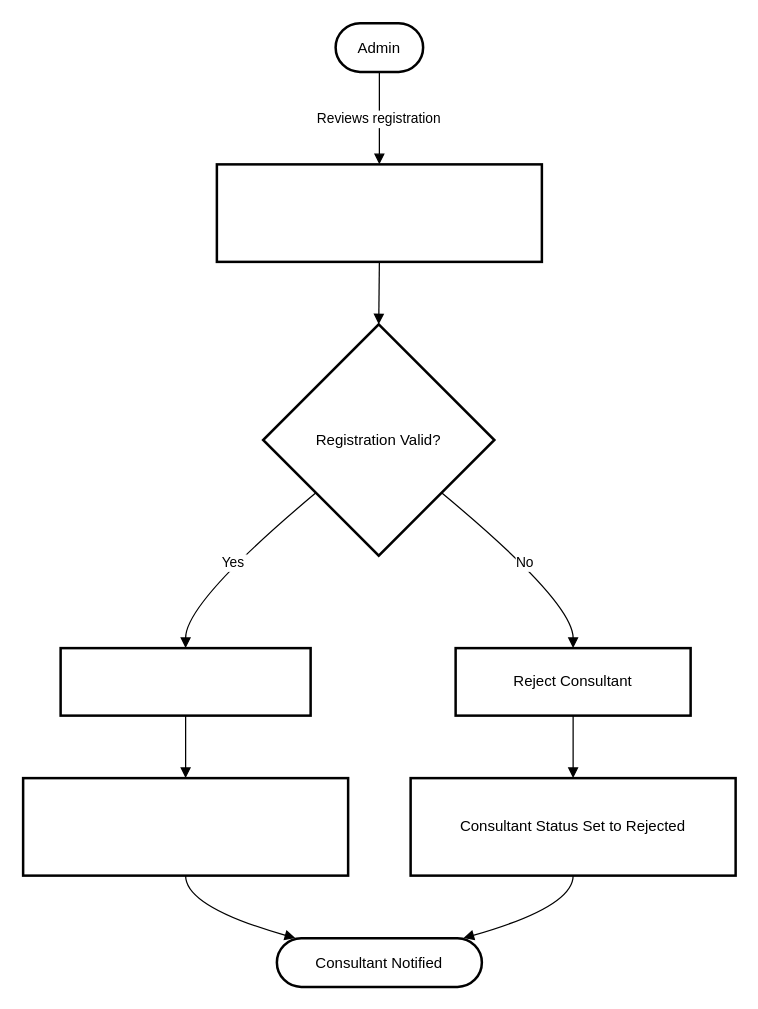
This 758x1009 diagram has some shape labels left out. Here are the shapes that lost their labels. From the top down, the centre of each, then its label:
At (378,212): "View Pending Consultant Registrations".
At (185,681): "Approve Consultant".
At (185,826): "Consultant Status Set to Approved".
